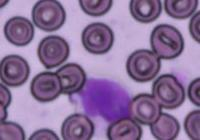M: (70, 74, 134, 126)
